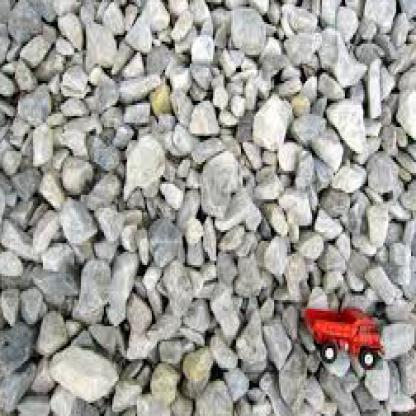Metamorphic_Marble: (48, 328, 119, 410), (124, 122, 170, 204), (198, 151, 243, 219), (227, 0, 274, 62), (107, 249, 144, 322), (79, 18, 121, 81), (127, 0, 175, 55), (254, 86, 297, 145), (322, 99, 371, 140), (258, 313, 297, 364), (60, 197, 102, 243), (210, 282, 246, 333), (276, 186, 314, 228), (61, 154, 97, 190), (30, 122, 59, 166), (366, 195, 392, 243), (192, 96, 221, 138), (191, 35, 218, 72)
